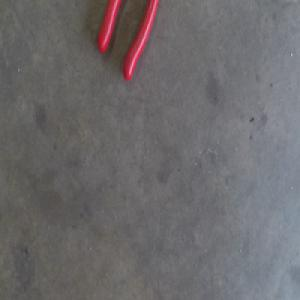Pliers: (98, 0, 160, 84)
